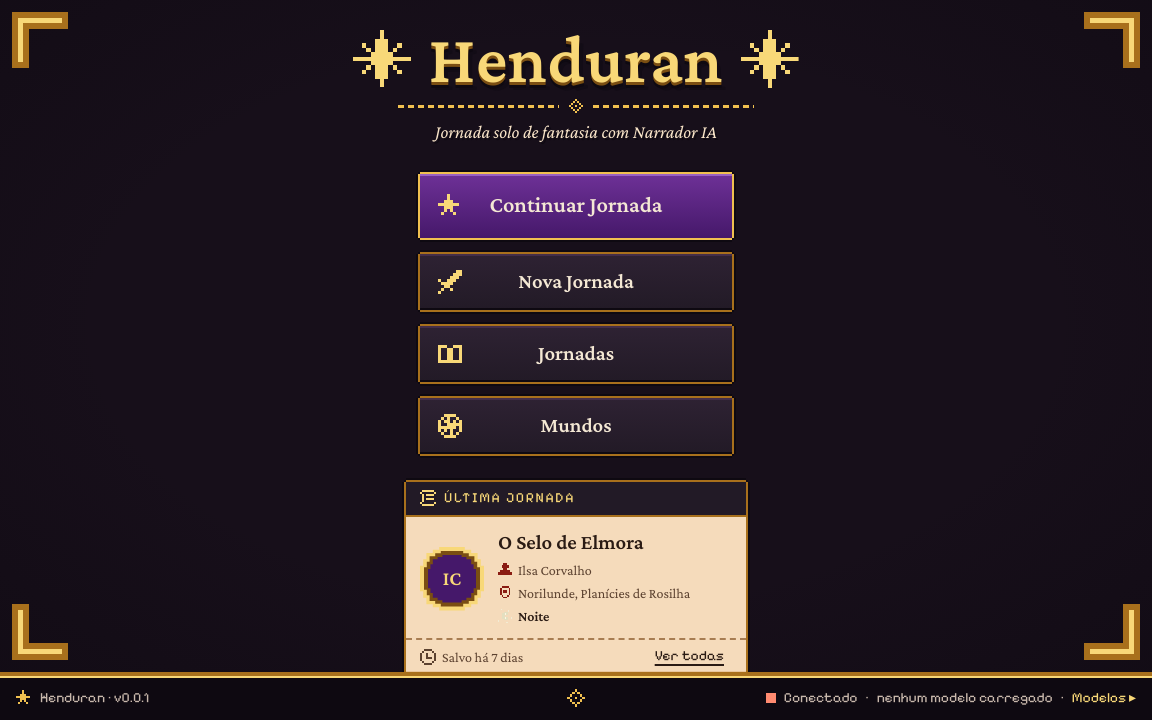
it: App — tela da Jornada e modelo › sem modelo, o indicador leva à tela Modelos e de lá volta à Jornada
This screenshot has width=1152, height=720.
Expected: the text "Conectado" is shown, [784, 688, 858, 708]
Click the button "Continuar Jornada" at (576, 206), box [420, 174, 732, 238]
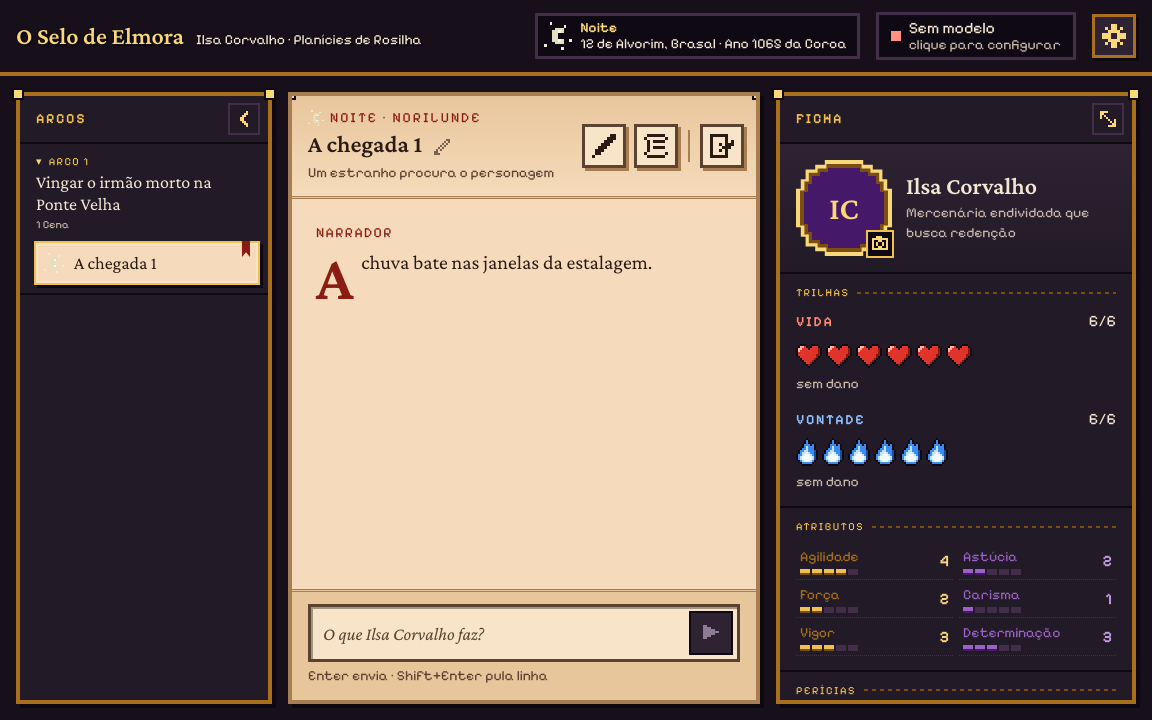
Expected: the element named "Conversa da Cena" is shown, [316, 224, 652, 313]
Click the button "Sem modelo clique para configurar" at (976, 36), box [876, 12, 1076, 60]
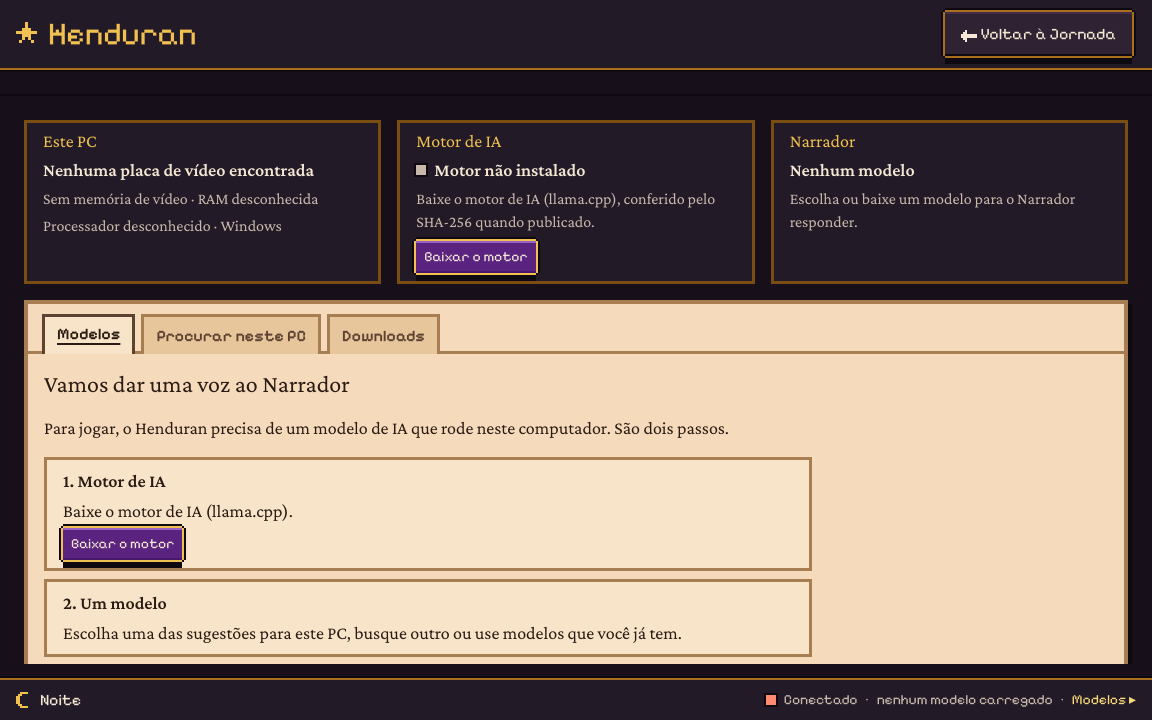
Click the button "Voltar à Jornada" at (1039, 34), box [945, 12, 1132, 56]
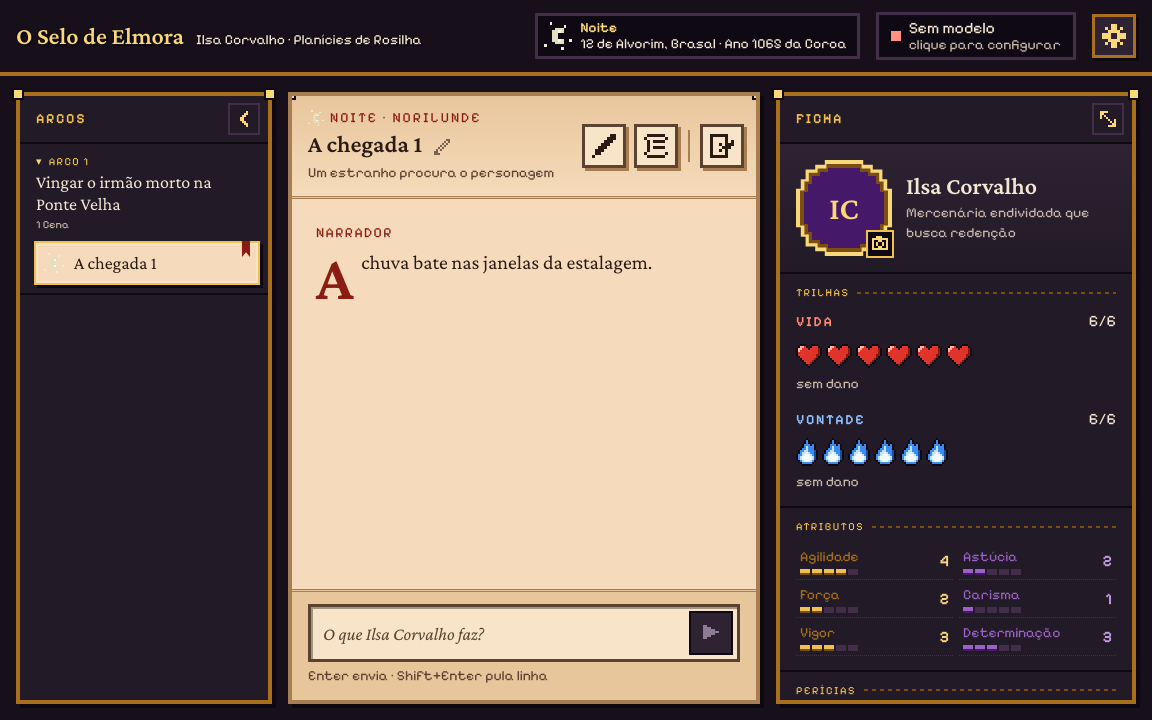
Expected: the heading "O Selo de Elmora" is shown, [16, 22, 184, 50]
